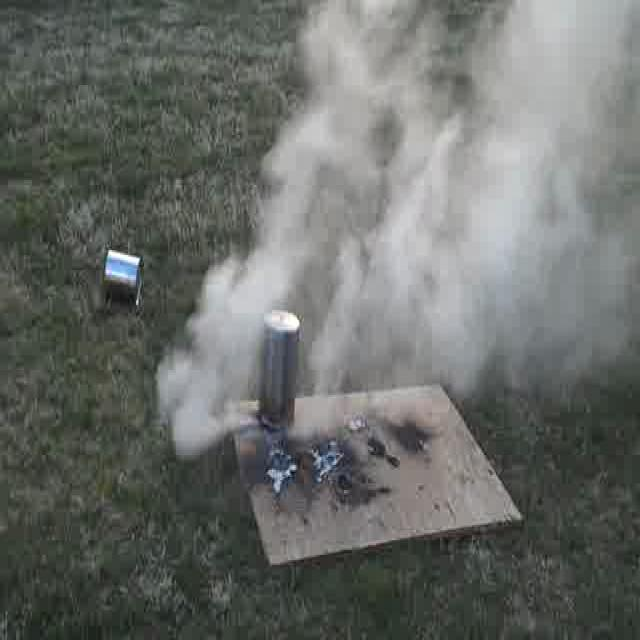Smoke: (296, 7, 636, 396), (156, 268, 268, 454)
